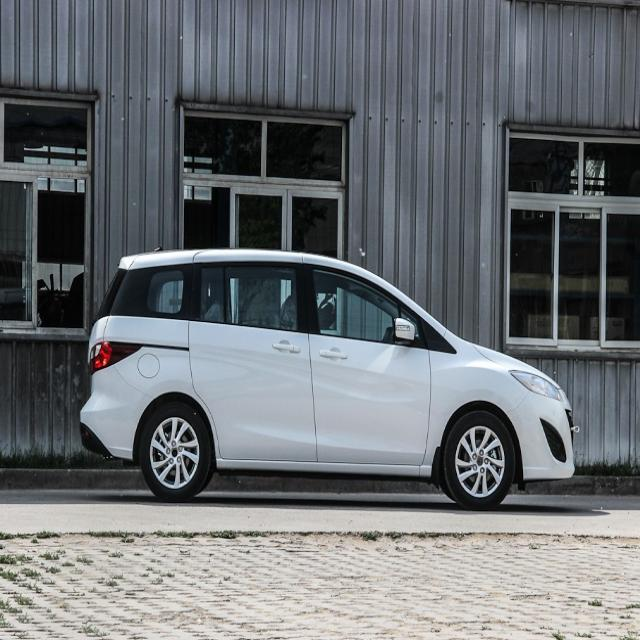back_right_side_light: (88, 339, 142, 378)
door: (188, 253, 327, 466)
front_bumper: (512, 394, 579, 480)
front_right_side_door: (302, 259, 432, 469)
front_right_side_light: (507, 366, 563, 405)
front_right_side_mirror: (390, 316, 420, 350)
rear_bumper: (78, 366, 152, 463)
wheel: (445, 410, 512, 509), (142, 400, 208, 494)
